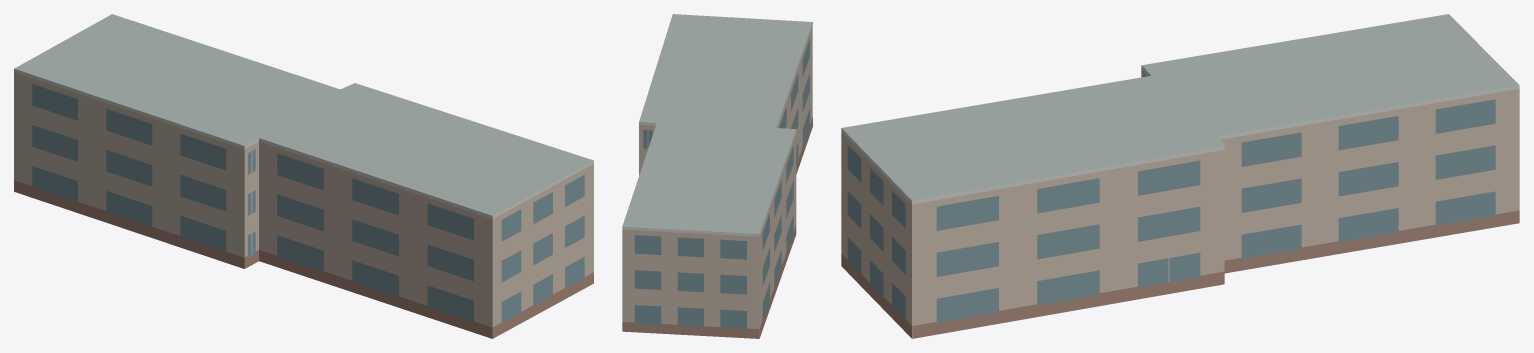
Rendered from survey-upis-32737109.glb.
3 renders of one model, left to right at view 1: azimuth 30°, elevation 25°; view 2: azimuth 150°, elevation 25°; view 3: azimuth 270°, elevation 25°, orthographic. The views are drawn at different scales.
Visible parts, largest first — view 1: survey-upis-32737109.tmp; view 2: survey-upis-32737109.tmp; view 3: survey-upis-32737109.tmp.
Boxes of the visible parts, x1,y1,x2,y2 form: survey-upis-32737109.tmp: (14,14,593,338); survey-upis-32737109.tmp: (622,14,812,338); survey-upis-32737109.tmp: (841,14,1519,338).
Size of the model in its own units: 26.52 by 9.15 by 40.69.
